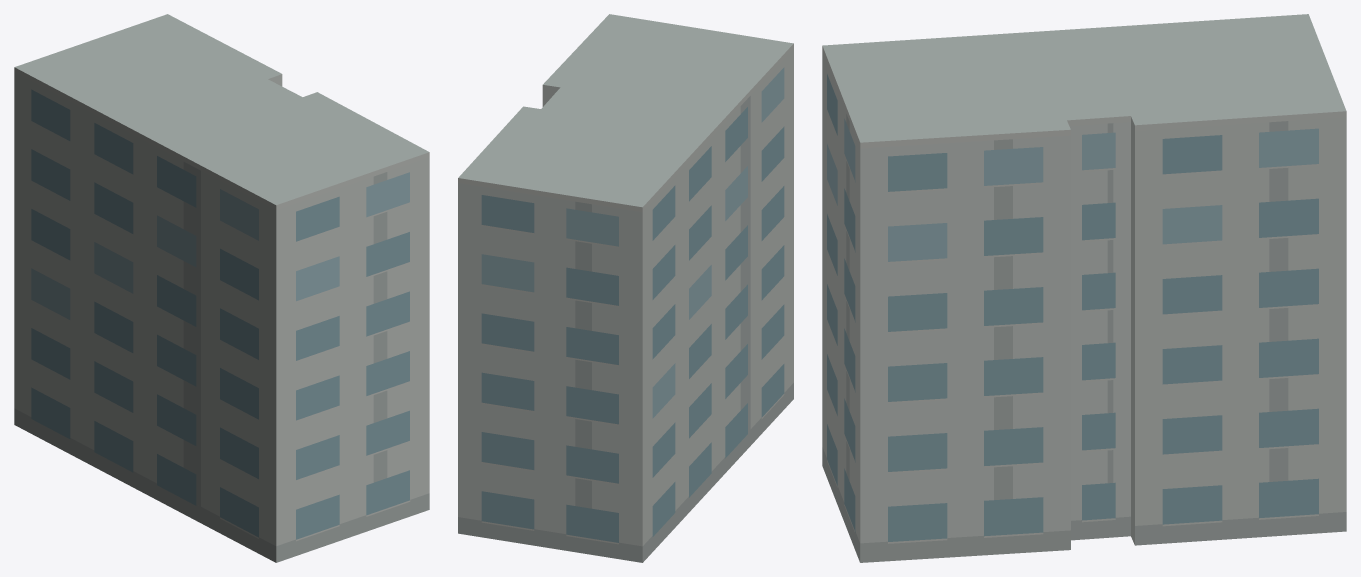
Rendered from survey-upis-33021623.glb.
3 views of the same model, side by side, from view 1: azimuth 30°, elevation 25°; view 2: azimuth 150°, elevation 25°; view 3: azimuth 270°, elevation 25° (orthographic). The views are drawn at different scales.
Visible parts, largest first — view 1: survey-upis-33021623.tmp; view 2: survey-upis-33021623.tmp; view 3: survey-upis-33021623.tmp.
Boxes of the visible parts, x1=… form: survey-upis-33021623.tmp: x1=14, y1=14, x2=429, y2=562; survey-upis-33021623.tmp: x1=458, y1=14, x2=793, y2=562; survey-upis-33021623.tmp: x1=822, y1=14, x2=1346, y2=562.
Size of the model in its own units: 11.3 by 17.2 by 19.46.
